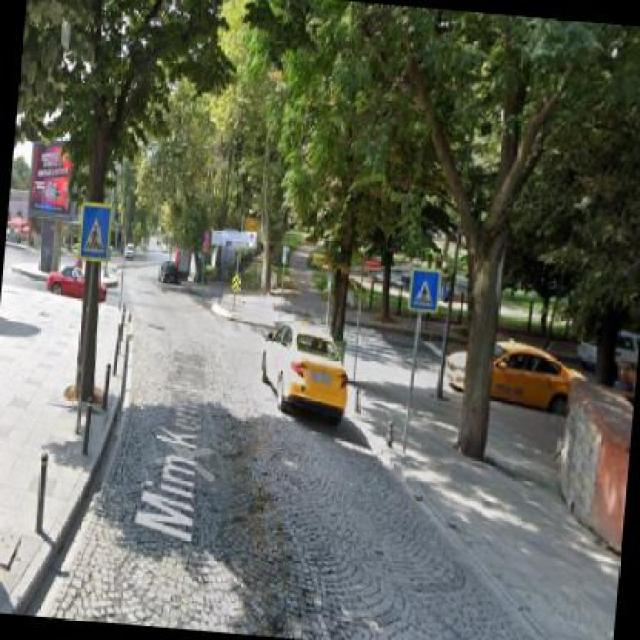yaya: (81, 207, 110, 258), (411, 271, 439, 310)
